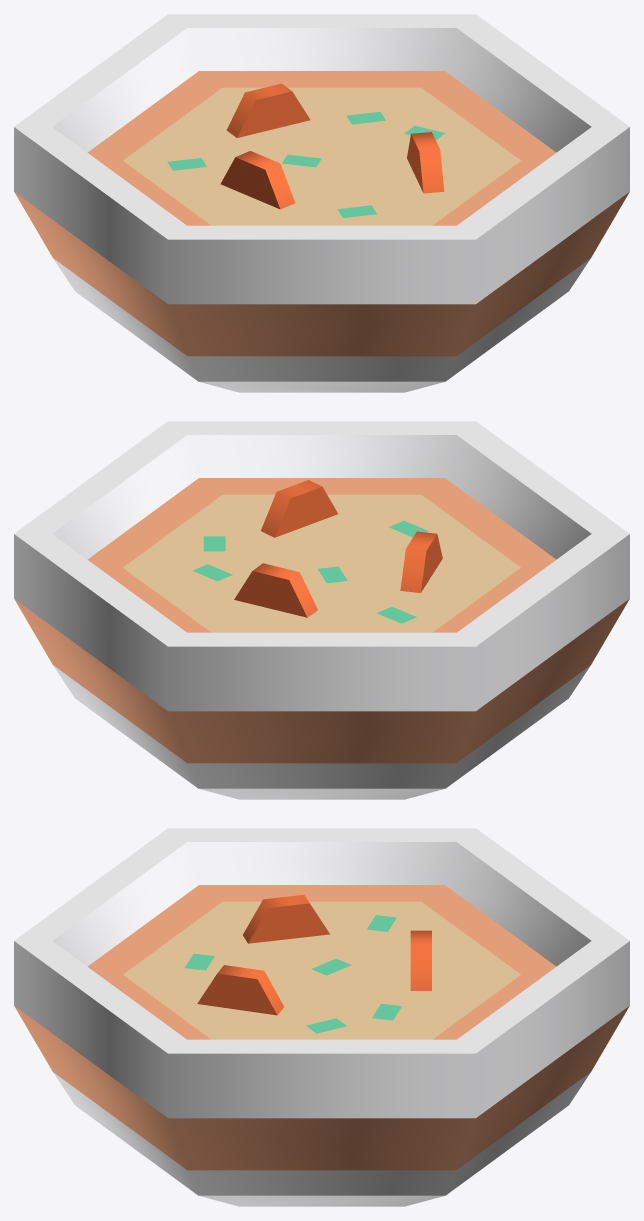
Rendered from bowl-soup.glb.
The picture shows the model from 3 angles, top to bottom: view 1: azimuth 30°, elevation 25°; view 2: azimuth 150°, elevation 25°; view 3: azimuth 270°, elevation 25°; orthographic projection.
Parts seen in each view (by area): view 1: bowlSoup; view 2: bowlSoup; view 3: bowlSoup.
Boxes of the visible parts, left/top/right/bottom form: bowlSoup: left=14, top=14, right=629, bottom=392; bowlSoup: left=14, top=421, right=629, bottom=799; bowlSoup: left=14, top=828, right=629, bottom=1206.
Bounding box in the file's own units: 0.5021 × 0.2138 × 0.5798.
Materials: 1 (1 with a texture image).
